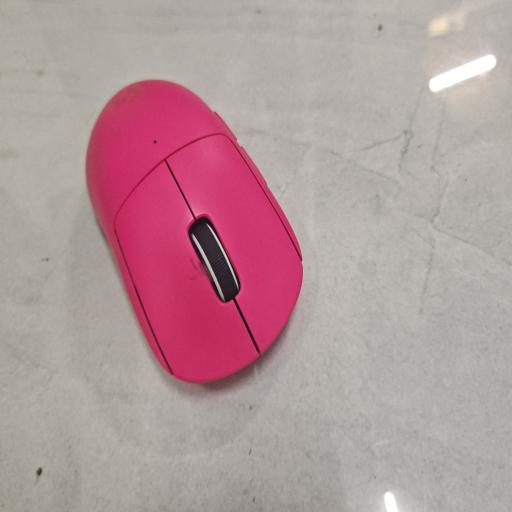mouse: (86, 80, 302, 382)
